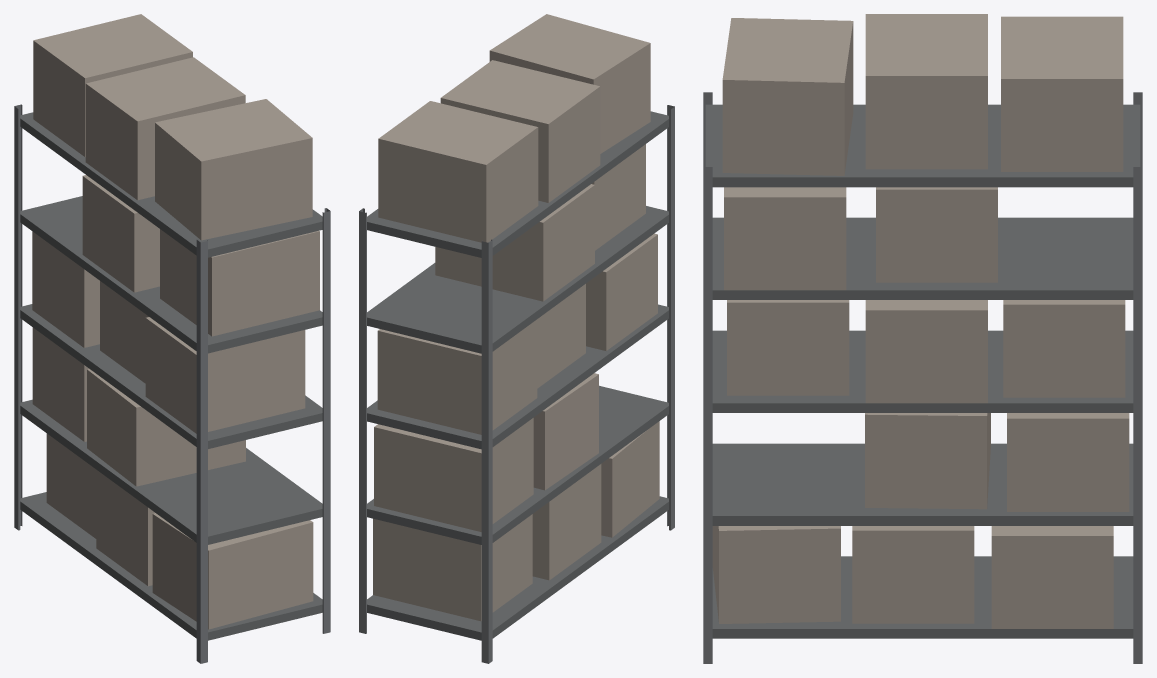
File: warehouse-rack.lod0.glb
The picture shows the model from 3 angles, left to right: view 1: azimuth 30°, elevation 25°; view 2: azimuth 150°, elevation 25°; view 3: azimuth 270°, elevation 25°; orthographic projection. The views are drawn at different scales.
Parts seen in each view (by area): view 1: Material2; view 2: Material2; view 3: Material2.
Boxes of the visible parts, left/top/right/bottom form: Material2: left=14, top=14, right=330, bottom=663; Material2: left=359, top=14, right=674, bottom=663; Material2: left=703, top=14, right=1142, bottom=663.
Bounding box in the file's own units: 0.6643 × 2.4 × 1.65.
